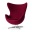chair: (3, 2, 30, 31)
